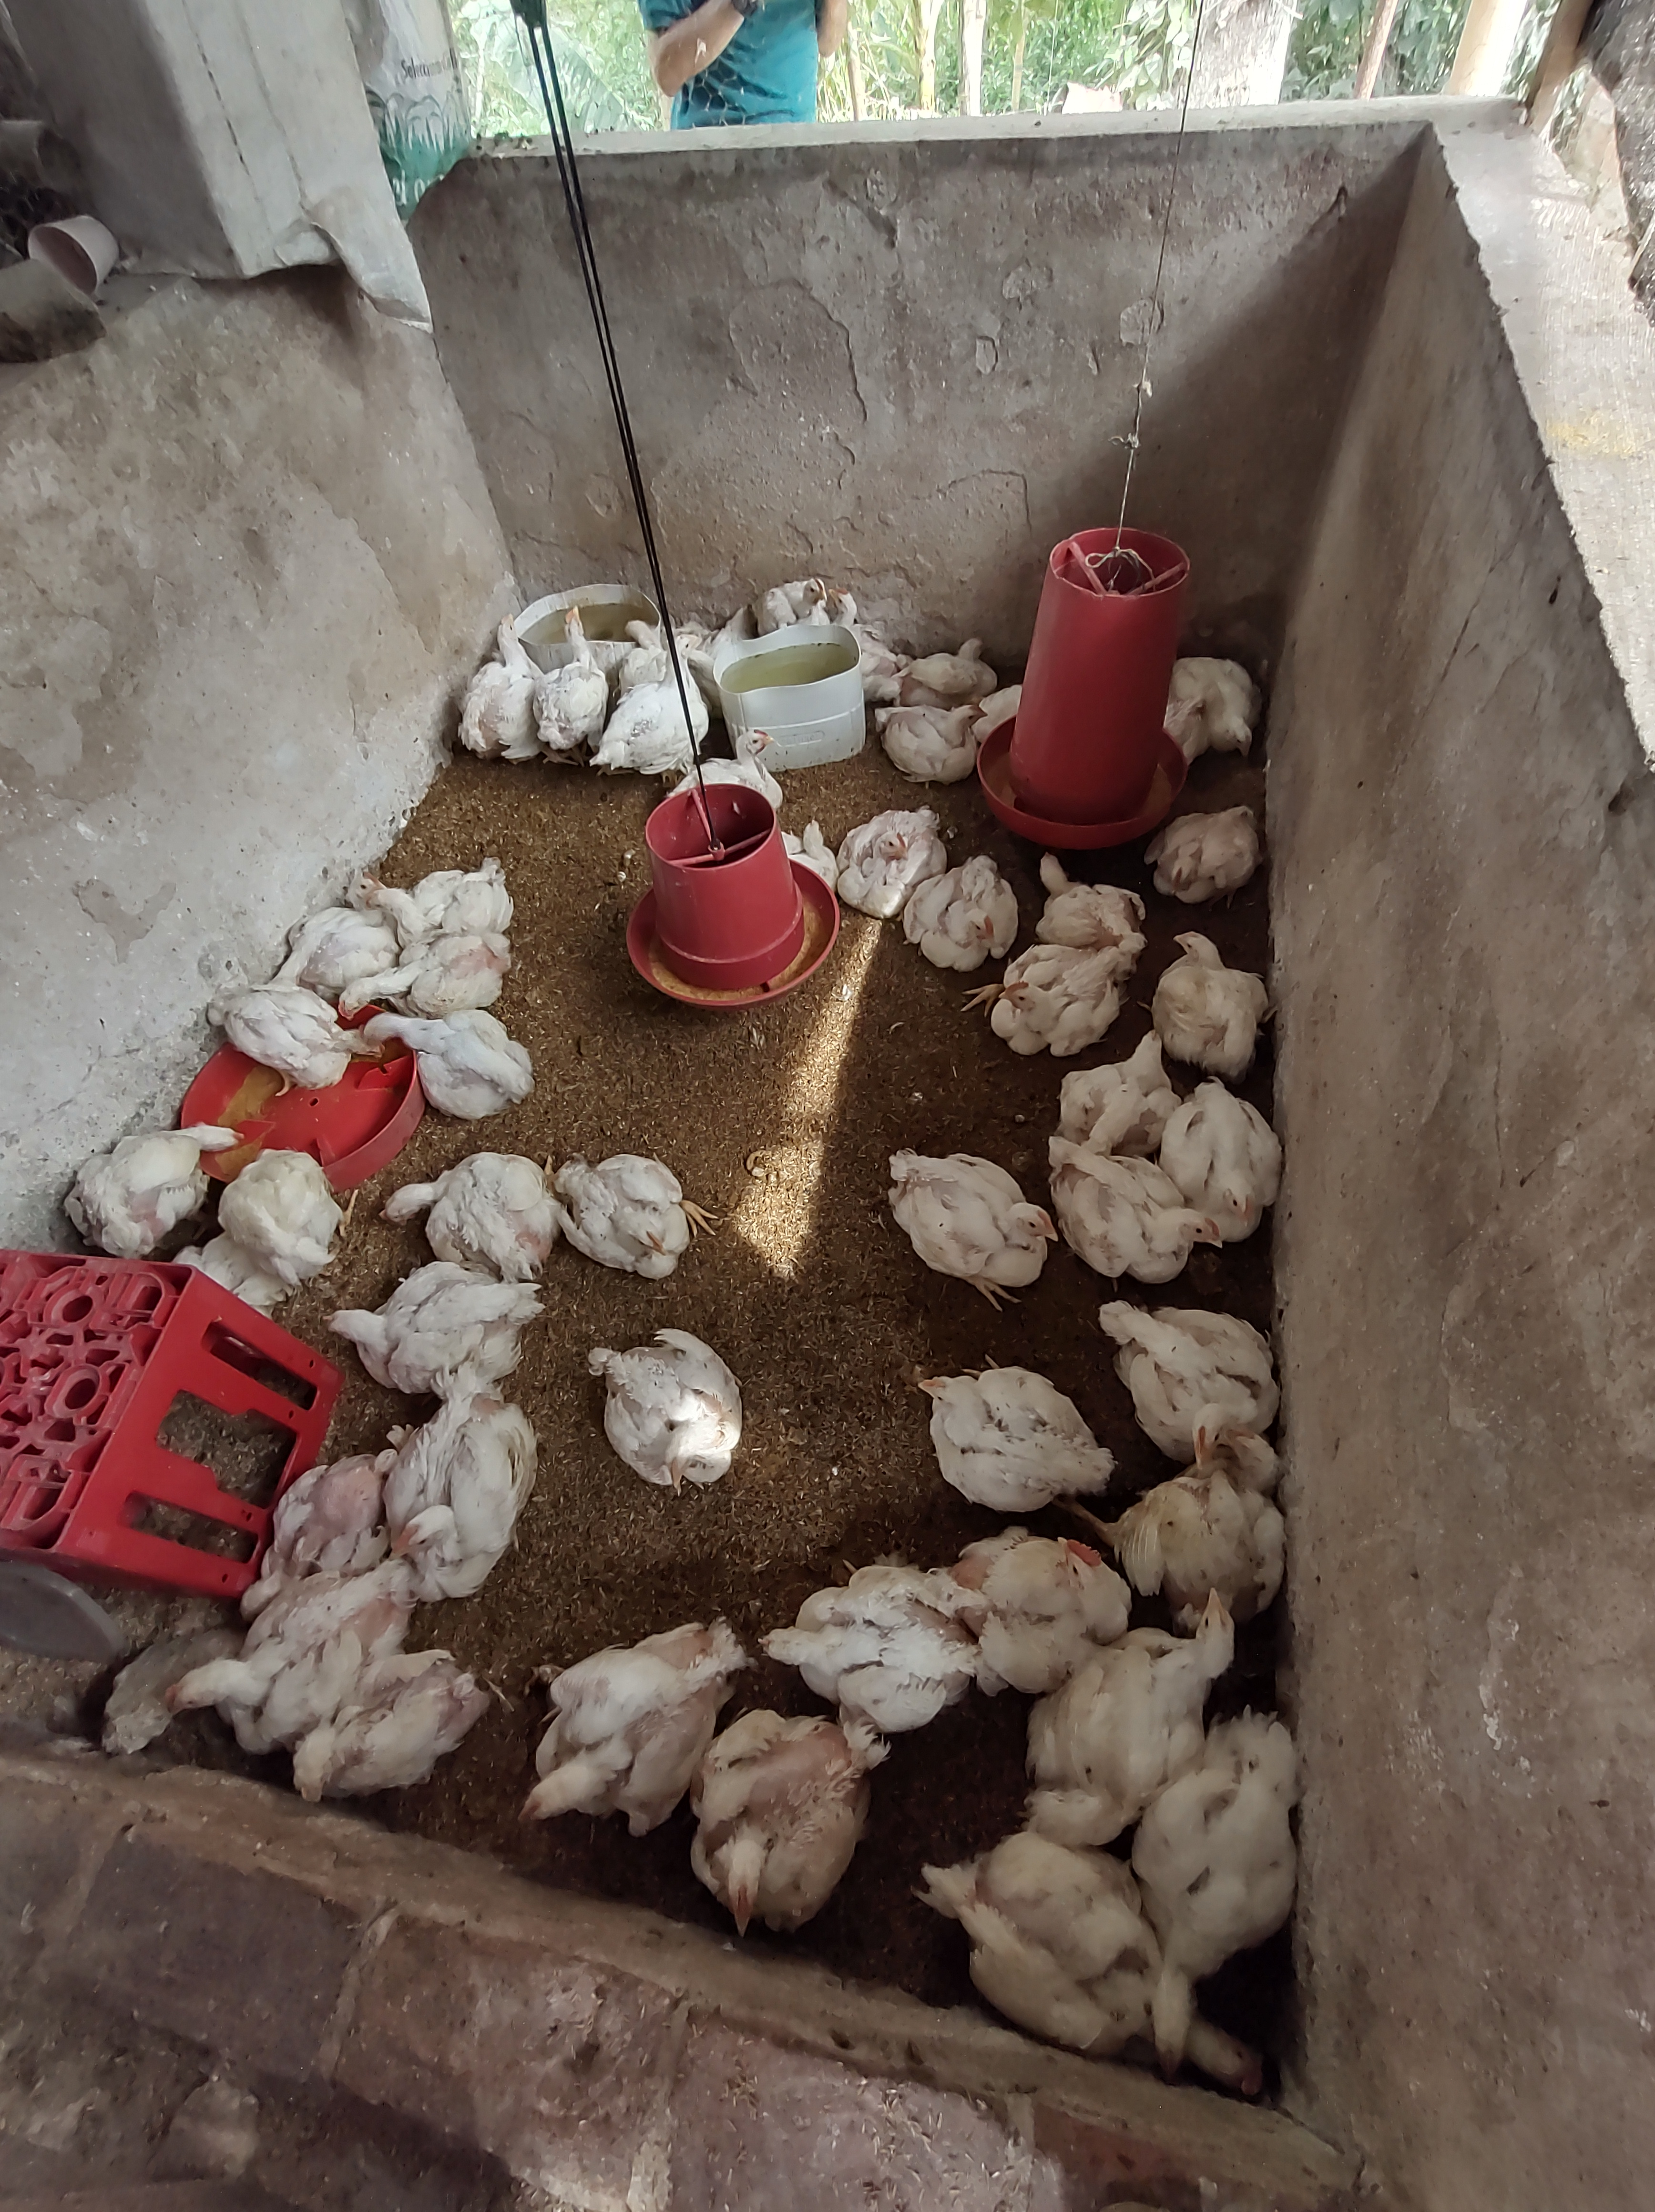Pollos: (1130, 1737, 1307, 2071), (520, 1626, 737, 1829), (1045, 1588, 1238, 1816), (687, 1706, 878, 1925), (765, 1562, 975, 1720), (289, 1662, 489, 1803), (920, 1369, 1111, 1509), (391, 1395, 518, 1593), (596, 1332, 746, 1492), (890, 1155, 1059, 1287), (325, 1275, 530, 1376), (80, 1115, 229, 1252), (1059, 1155, 1213, 1282), (249, 1466, 381, 1610), (549, 1158, 708, 1276), (1111, 1299, 1219, 1469), (986, 1536, 1120, 1669), (384, 1158, 548, 1268), (229, 1137, 339, 1292), (374, 1012, 537, 1115), (1179, 1431, 1285, 1584), (167, 1612, 313, 1720), (1059, 1029, 1182, 1153), (1163, 929, 1267, 1061), (1194, 1068, 1278, 1224), (602, 643, 699, 777), (996, 948, 1128, 1045), (1156, 795, 1271, 896), (205, 996, 344, 1078), (914, 859, 1015, 967), (461, 616, 537, 746), (1033, 852, 1139, 946), (880, 699, 987, 790), (539, 605, 605, 739), (372, 871, 506, 936), (1186, 650, 1260, 755), (400, 941, 516, 1005), (845, 800, 920, 894), (906, 631, 994, 694), (720, 716, 782, 786), (758, 576, 829, 621)
